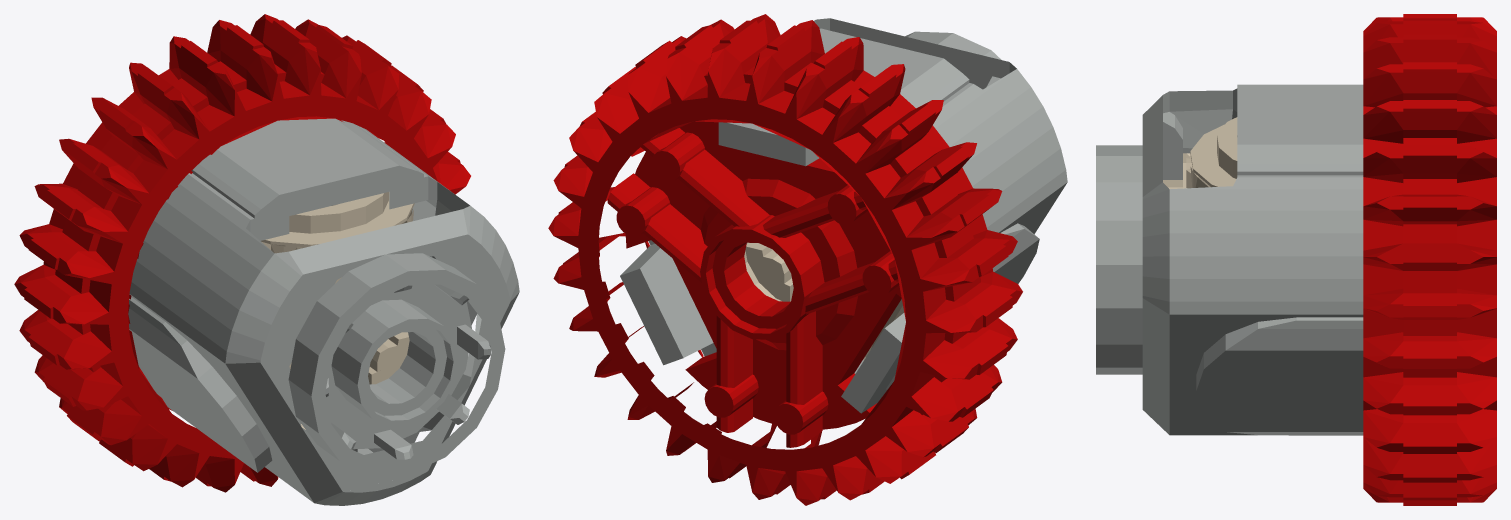
The picture shows the model from 3 angles, left to right: view 1: azimuth 30°, elevation 25°; view 2: azimuth 150°, elevation 25°; view 3: azimuth 270°, elevation 25°; orthographic projection. The views are drawn at different scales.
Parts seen in each view (by area): view 1: world; view 2: world; view 3: world.
Boxes of the visible parts, <box> form: world: <box>14,14,519,505</box>; world: <box>548,14,1067,505</box>; world: <box>1096,14,1496,505</box>.
Size of the model in its own units: 0.0294 by 0.0294 by 0.024.
